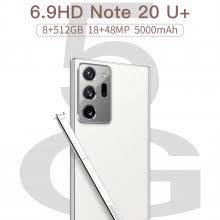Smartphone: (65, 54, 151, 220)
